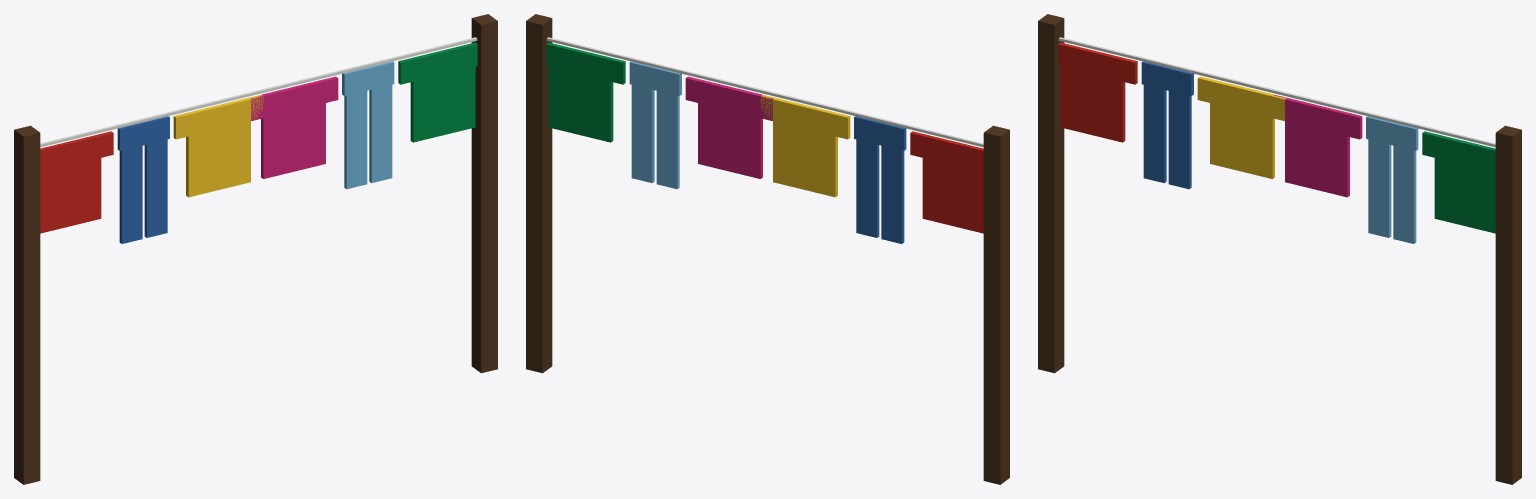
Rendered from Tendedero.fbx.
3 renders of one model, left to right at view 1: azimuth 30°, elevation 25°; view 2: azimuth 150°, elevation 25°; view 3: azimuth 330°, elevation 25°, orthographic.
Parts seen in each view (by area): view 1: Tendedero; view 2: Tendedero; view 3: Tendedero.
Part boxes in pixels (x1,y1,x2,y2): Tendedero: (14,14,497,484); Tendedero: (526,14,1009,484); Tendedero: (1038,14,1521,484).
Bounding box in the file's own units: 2.28 × 1.6 × 0.08.
